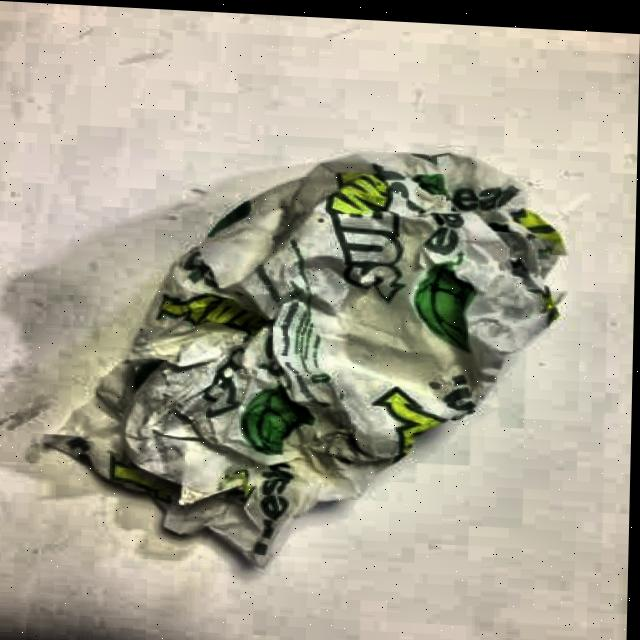trash: (37, 122, 574, 590)
